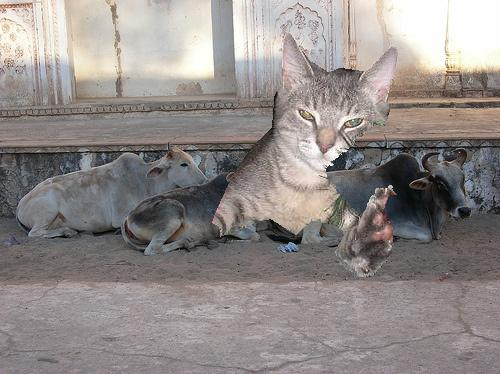tampered: (213, 33, 398, 277)
